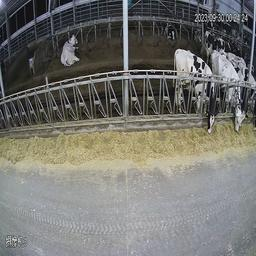cow: (172, 48, 216, 138), (215, 47, 242, 135), (60, 32, 80, 64), (162, 19, 176, 40)
